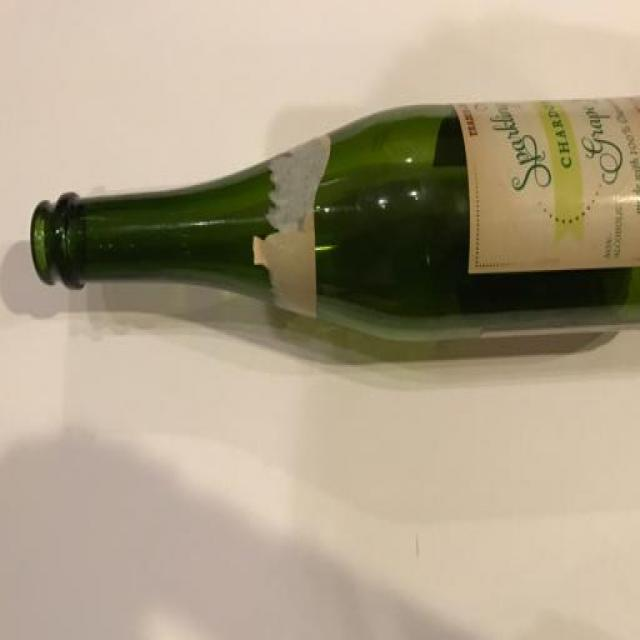glass: (1, 81, 640, 362)
